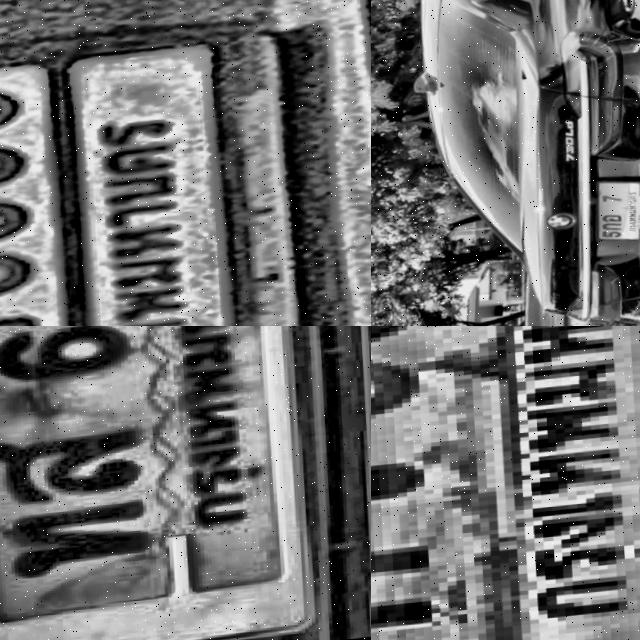license-plate: (0, 15, 342, 326), (0, 326, 323, 640), (371, 326, 640, 640), (587, 179, 640, 247)
